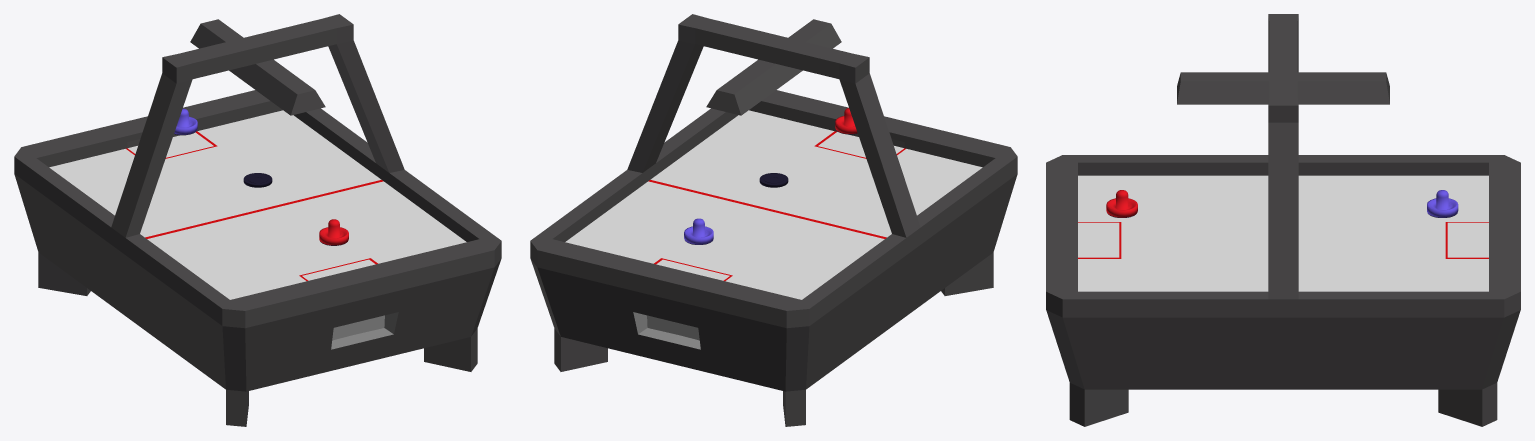
File: MP_Ass2_AirHockey.fbx
3 views of the same model, side by side, from view 1: azimuth 30°, elevation 25°; view 2: azimuth 150°, elevation 25°; view 3: azimuth 270°, elevation 25° (orthographic). The views are drawn at different scales.
Visible parts, largest first — view 1: Air_Hockey_Table, Paddle; view 2: Air_Hockey_Table, Paddle2; view 3: Air_Hockey_Table, Paddle2, Paddle.
Part boxes in pixels (left/top/right/bottom): Air_Hockey_Table: left=14, top=14, right=501, bottom=426; Paddle: left=319, top=219, right=348, bottom=245; Air_Hockey_Table: left=530, top=14, right=1017, bottom=426; Paddle2: left=684, top=218, right=713, bottom=244; Air_Hockey_Table: left=1046, top=14, right=1520, bottom=426; Paddle2: left=1427, top=190, right=1458, bottom=217; Paddle: left=1106, top=190, right=1137, bottom=217.
Bounding box in the file's own units: 672 × 655 × 933.
